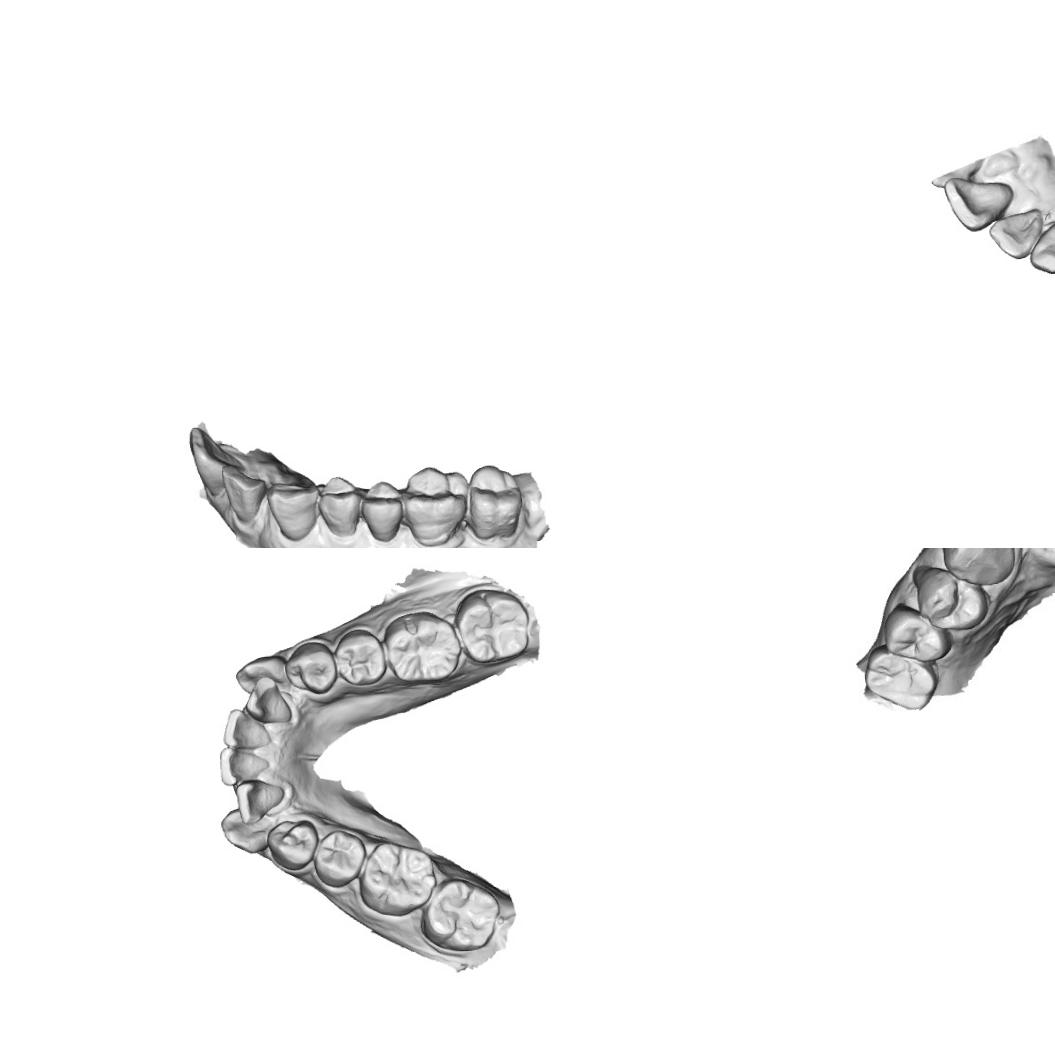canine: (265, 478, 322, 544), (939, 548, 1015, 587), (218, 806, 278, 855), (232, 652, 292, 695), (1027, 216, 1055, 276)
incisor: (941, 174, 1017, 234), (186, 425, 234, 499), (217, 461, 269, 524), (986, 206, 1044, 262), (243, 674, 294, 726), (233, 776, 286, 826), (220, 706, 274, 752), (216, 744, 271, 788)
molar: (416, 873, 502, 954), (356, 838, 438, 920), (454, 586, 533, 667), (382, 607, 463, 686), (400, 463, 471, 548), (860, 644, 938, 716), (464, 461, 524, 541)
premolar: (912, 562, 990, 630), (311, 827, 369, 890), (884, 608, 950, 661), (333, 626, 388, 688), (316, 472, 366, 540), (359, 476, 407, 545), (282, 640, 338, 697), (264, 818, 320, 872)
